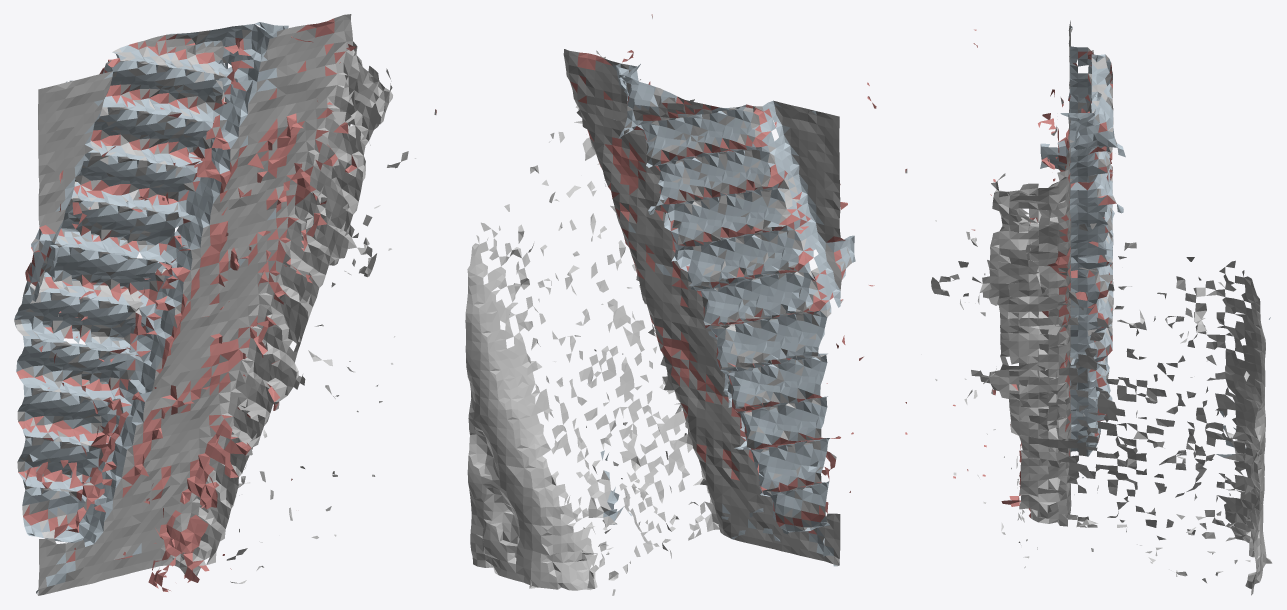
Rendered from B173-뜬면-2__lt_dynnow_ALS_s0__before.glb.
The picture shows the model from 3 angles, left to right: view 1: azimuth 30°, elevation 25°; view 2: azimuth 150°, elevation 25°; view 3: azimuth 270°, elevation 25°; orthographic projection. The views are drawn at different scales.
Bounding box in the file's own units: 26.2 × 40.43 × 29.95.
